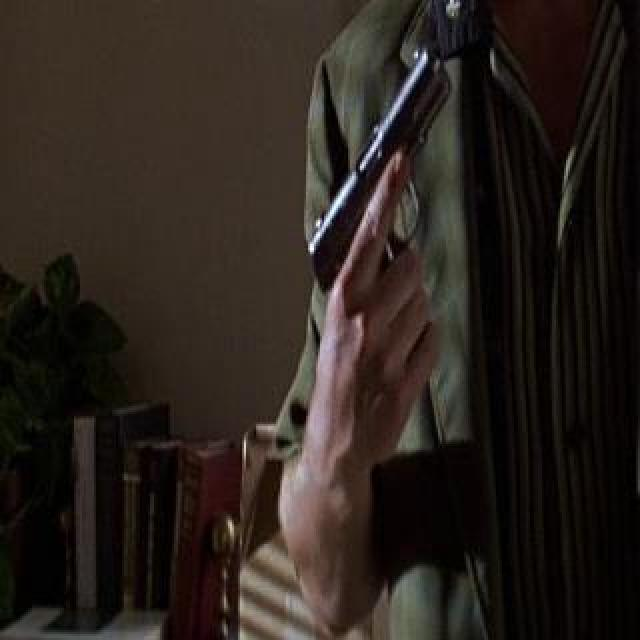Guns: (301, 25, 486, 325)
